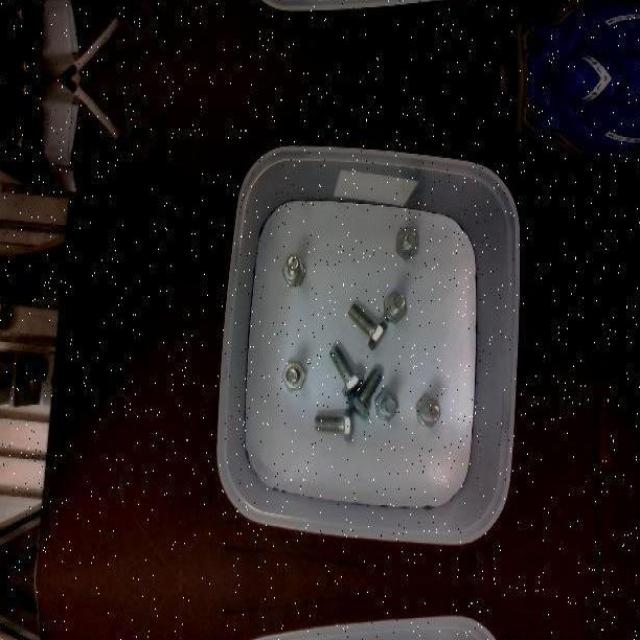screw: (348, 367, 383, 420), (329, 343, 364, 395), (348, 302, 387, 348), (314, 407, 353, 442), (374, 390, 400, 424), (414, 394, 439, 428), (383, 291, 407, 324), (282, 255, 306, 286), (282, 360, 306, 390), (396, 226, 418, 258)
